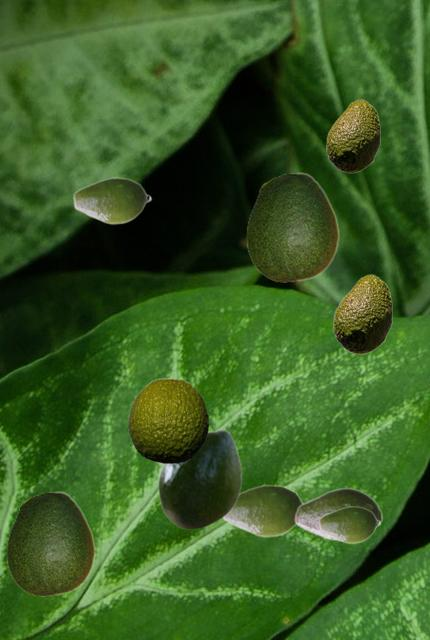avocado: (246, 172, 338, 281), (6, 491, 94, 595), (157, 428, 241, 529), (128, 378, 207, 462), (294, 487, 382, 541), (333, 274, 391, 353), (223, 483, 302, 537), (326, 99, 379, 172), (72, 176, 151, 224), (318, 505, 380, 543)
